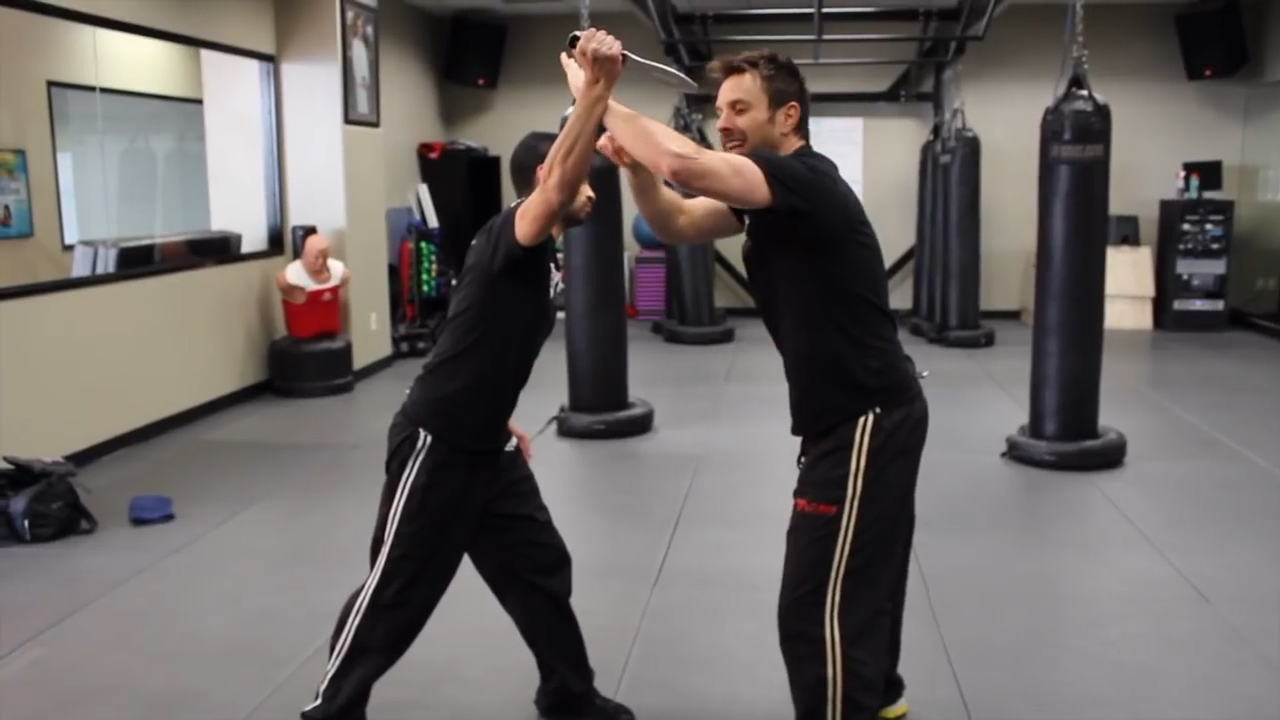knife: (565, 26, 706, 99)
